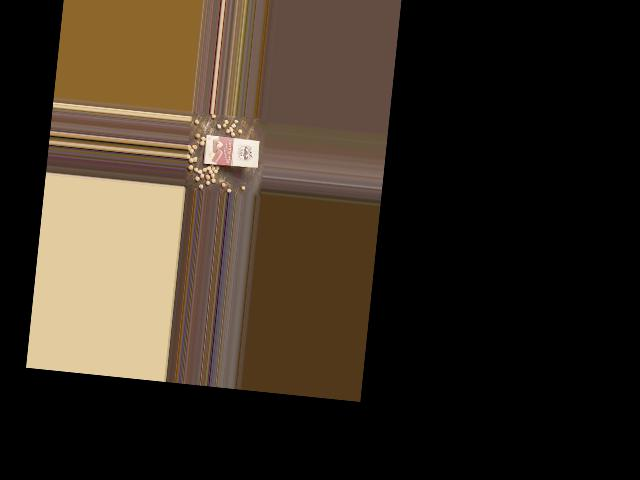chocolate: (201, 133, 261, 171)
